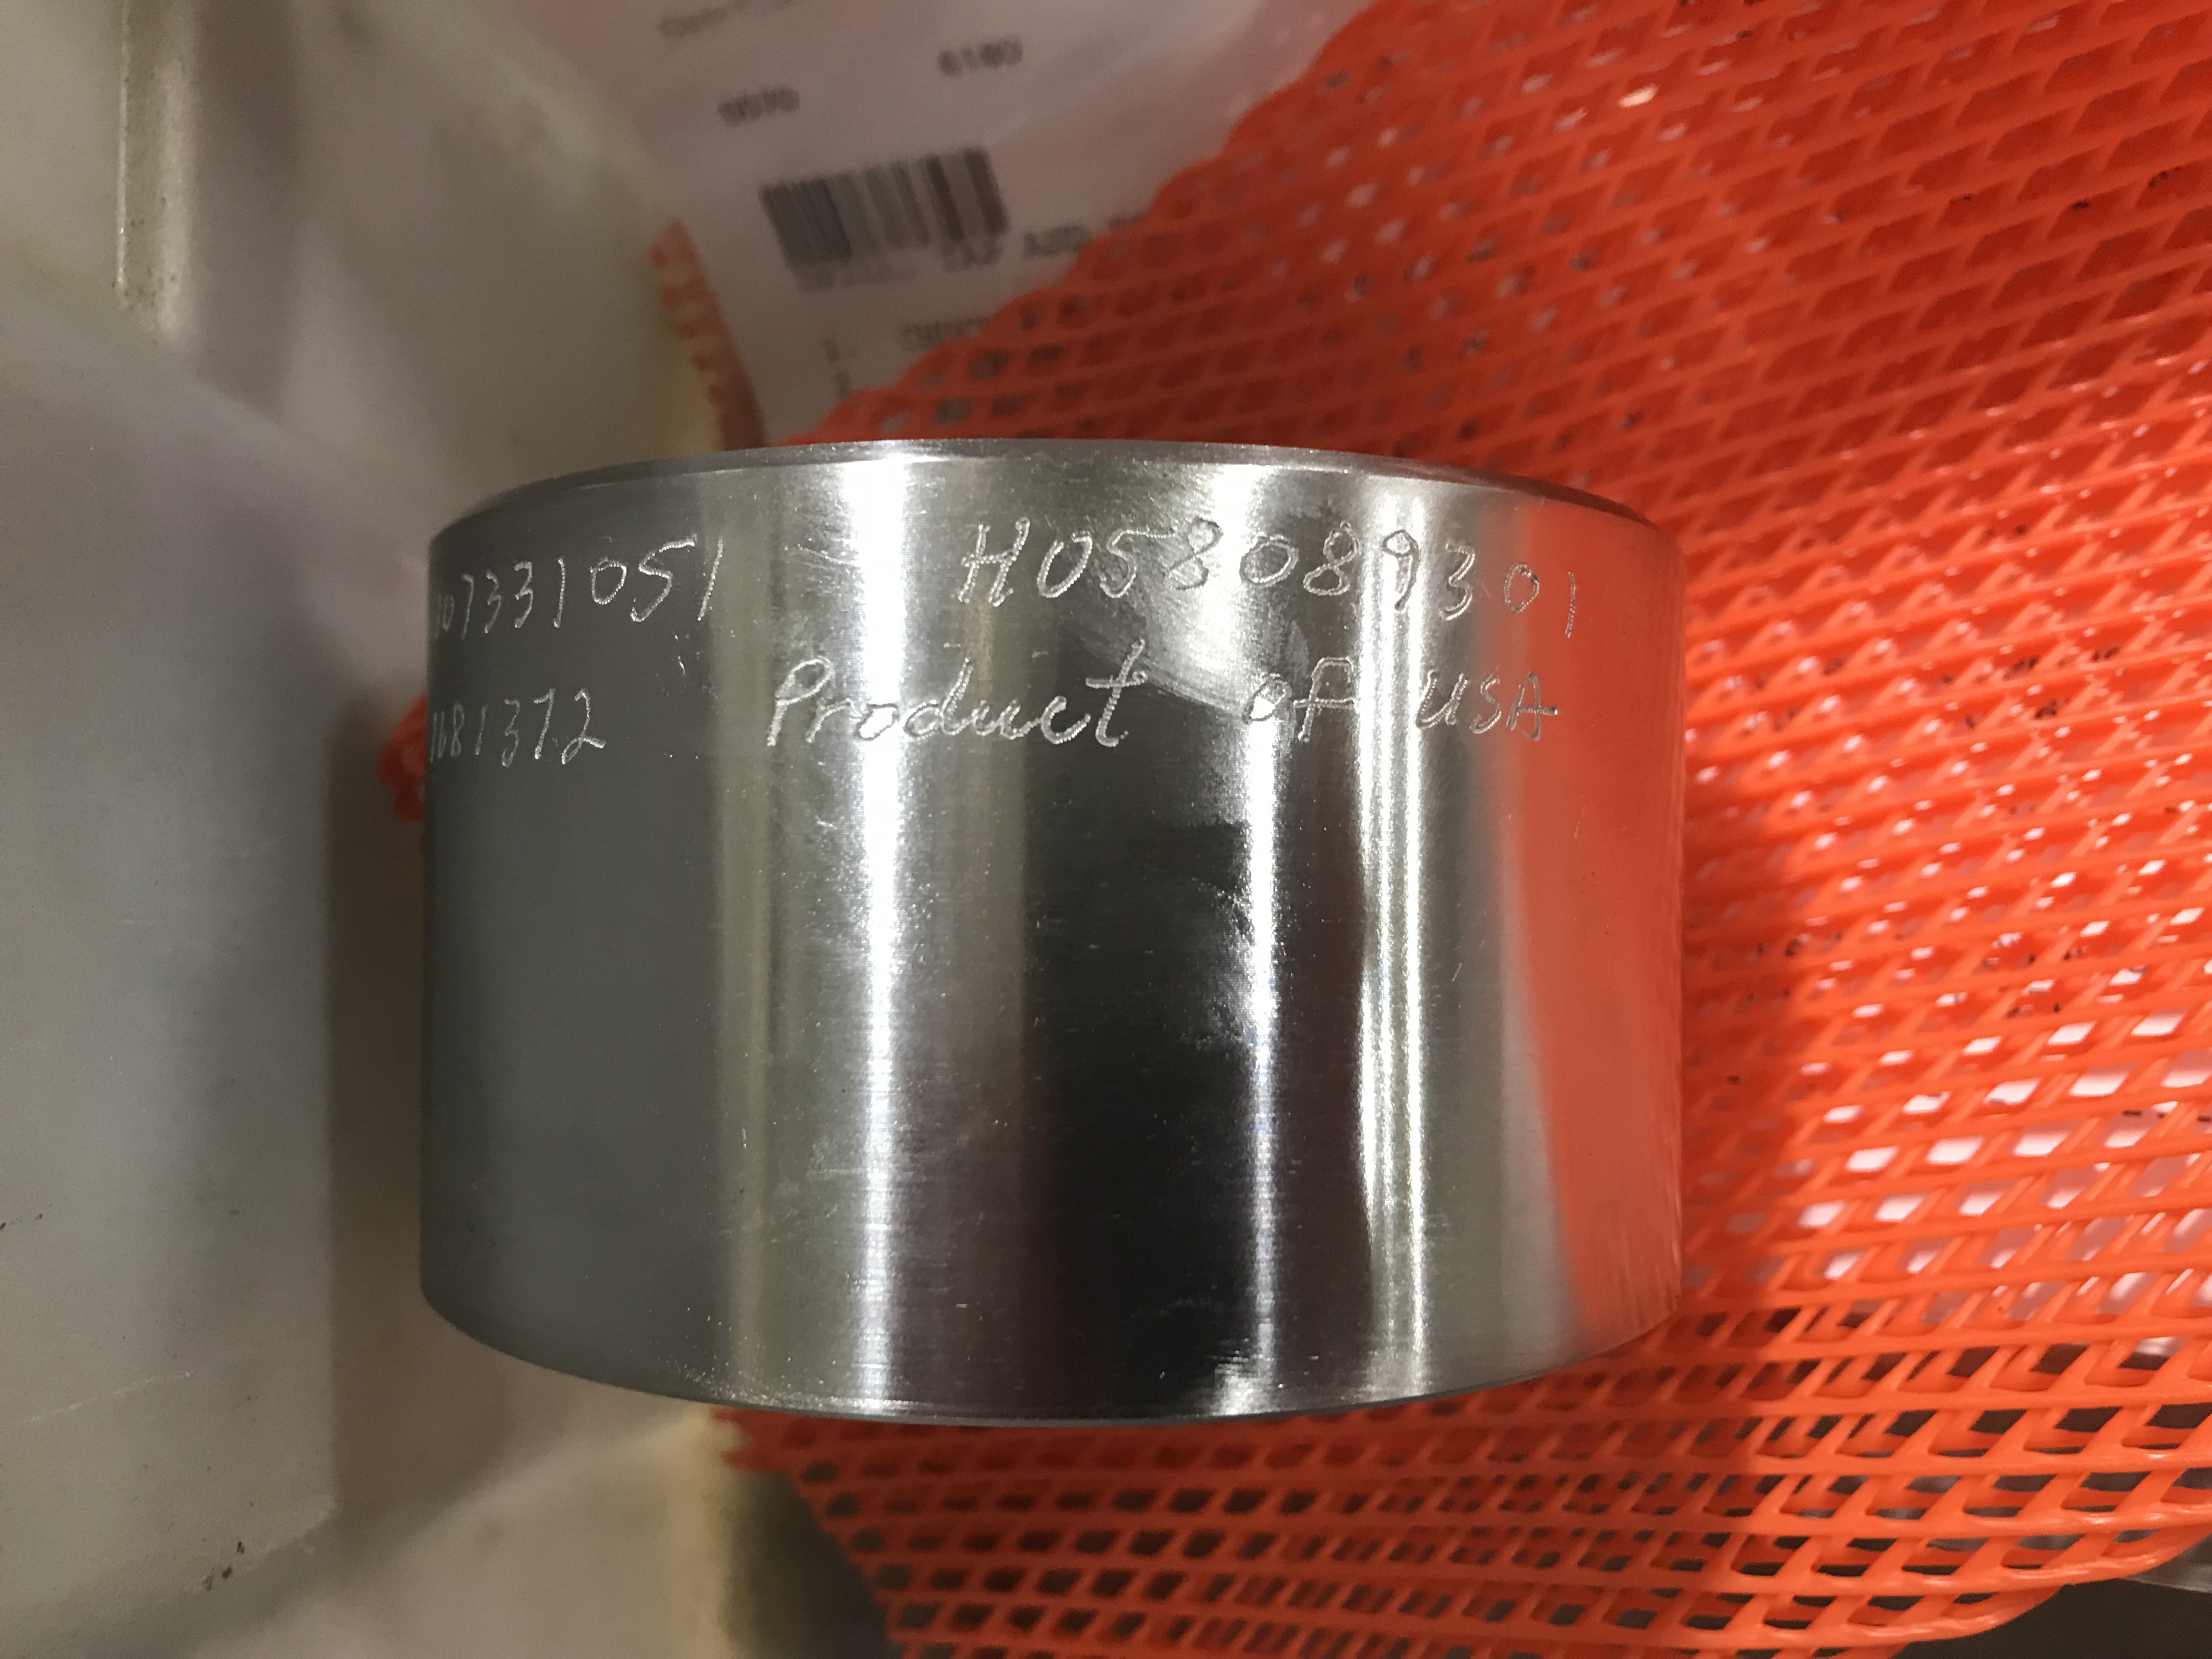character: (1082, 631, 1155, 755), (759, 650, 836, 748), (958, 514, 1033, 613), (1292, 652, 1364, 755), (1097, 519, 1176, 610), (907, 653, 979, 751), (627, 535, 702, 627), (1305, 518, 1366, 606), (1381, 526, 1433, 624), (554, 683, 613, 769), (1231, 528, 1301, 598), (1033, 526, 1096, 601), (693, 528, 733, 645), (1418, 659, 1470, 744), (1169, 512, 1223, 591), (1440, 532, 1487, 615), (1242, 659, 1292, 734), (1507, 669, 1557, 744), (1555, 559, 1595, 648), (1501, 551, 1547, 629), (583, 551, 634, 620), (1470, 666, 1510, 748), (967, 695, 1026, 748), (1038, 692, 1090, 751), (855, 697, 902, 756), (806, 695, 852, 751)
